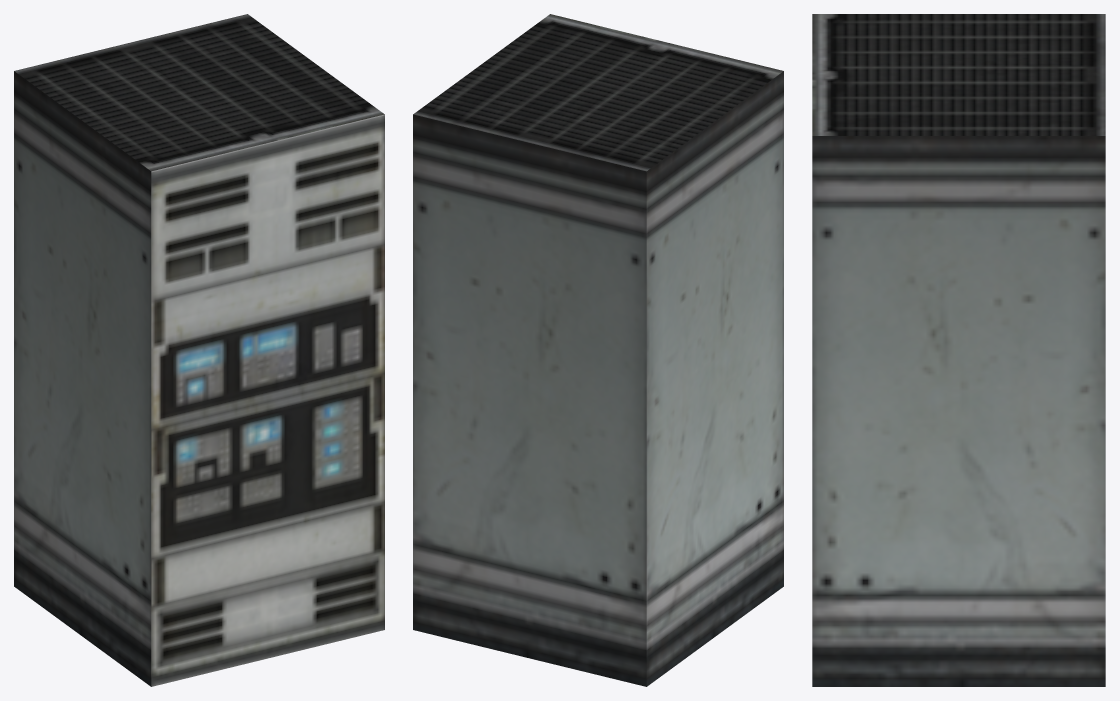
Rendered from armario-internoPACK2.fbx.
3 renders of one model, left to right at view 1: azimuth 30°, elevation 25°; view 2: azimuth 150°, elevation 25°; view 3: azimuth 270°, elevation 25°, orthographic. The views are drawn at different scales.
Visible parts, largest first — view 1: Cylinder; view 2: Cylinder; view 3: Cylinder.
Boxes of the visible parts, left/top/right/bottom form: Cylinder: left=14, top=14, right=384, bottom=686; Cylinder: left=413, top=14, right=783, bottom=686; Cylinder: left=812, top=14, right=1105, bottom=686.
Size of the model in its own units: 0.975 by 2.06 by 0.992.
